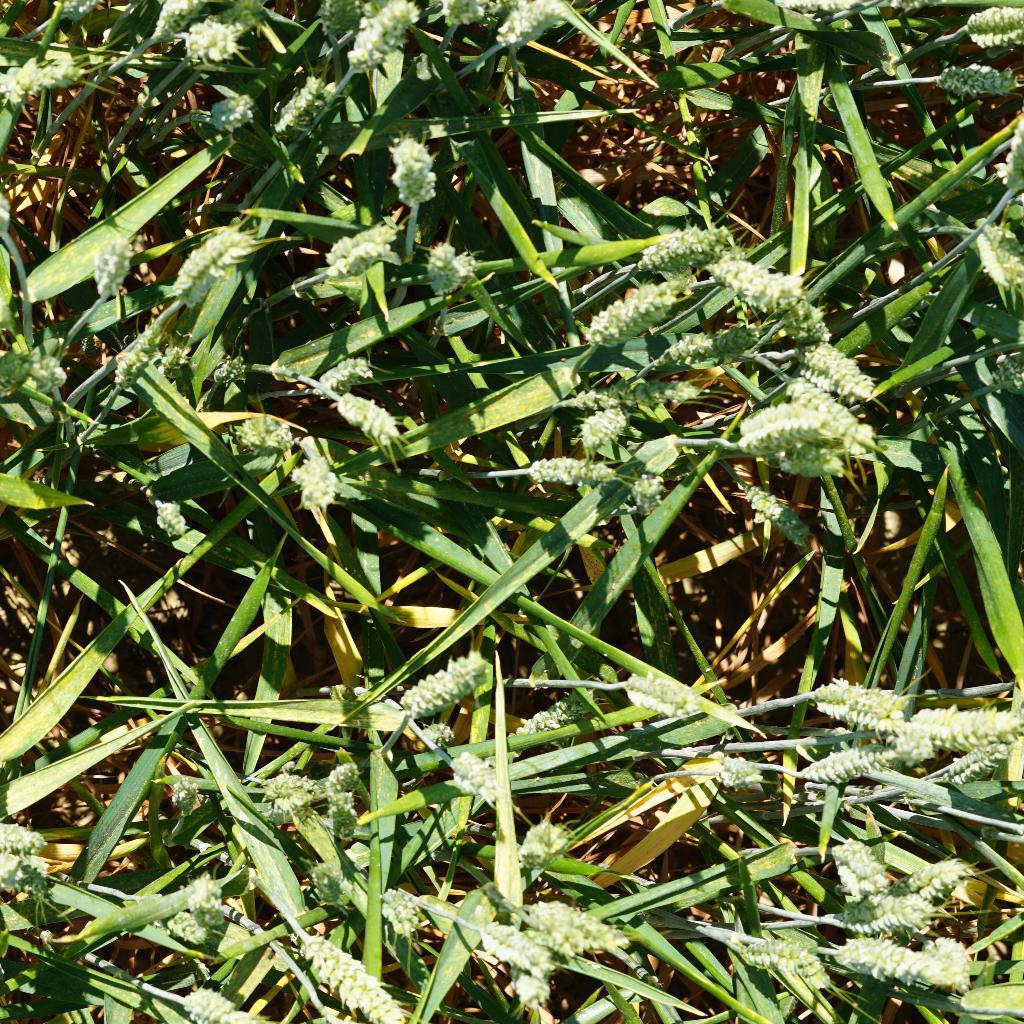0-0: (276, 919, 415, 1024), (884, 692, 1021, 770), (830, 927, 982, 996), (174, 217, 262, 318), (382, 647, 497, 717), (720, 387, 832, 456), (732, 923, 844, 991), (828, 875, 942, 941), (778, 373, 875, 449), (514, 445, 631, 504), (698, 245, 808, 307), (785, 333, 885, 400), (578, 283, 684, 346), (470, 916, 575, 979), (374, 120, 445, 212), (519, 892, 620, 956), (740, 475, 818, 556), (508, 673, 598, 743), (806, 662, 901, 728), (438, 742, 519, 817), (277, 438, 348, 522), (919, 49, 1020, 107), (320, 209, 400, 281), (617, 219, 739, 266), (129, 482, 213, 548), (808, 822, 889, 890), (886, 848, 986, 903), (87, 221, 146, 314), (88, 331, 171, 395), (798, 736, 894, 789), (602, 668, 701, 718), (347, 0, 417, 70), (556, 393, 645, 448), (0, 41, 77, 104), (645, 326, 766, 366), (180, 78, 258, 138), (486, 0, 579, 49), (249, 759, 317, 826), (971, 204, 1024, 289), (413, 227, 471, 301), (331, 387, 404, 445), (307, 757, 359, 838), (367, 874, 436, 935), (160, 766, 224, 829), (698, 750, 777, 799), (160, 987, 264, 1024), (175, 12, 238, 73), (934, 750, 1015, 796), (6, 334, 71, 390), (165, 860, 231, 914), (272, 78, 333, 130), (963, 0, 1024, 51), (509, 814, 572, 863), (613, 463, 675, 512), (305, 852, 358, 909), (497, 961, 556, 1009), (1, 851, 54, 902), (0, 810, 58, 854), (43, 0, 133, 26), (138, 0, 206, 34), (314, 0, 358, 49), (0, 0, 15, 4)
